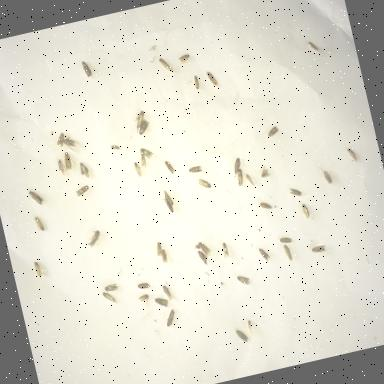pbw: (82, 227, 104, 251), (130, 108, 150, 134), (56, 148, 76, 173), (193, 238, 214, 261), (26, 186, 46, 210), (231, 165, 248, 191), (101, 287, 121, 309), (132, 152, 152, 174), (204, 68, 222, 92), (52, 156, 70, 180), (158, 54, 176, 78), (156, 244, 172, 270), (136, 144, 156, 164), (161, 158, 179, 180), (194, 246, 212, 268), (76, 158, 92, 182), (79, 57, 95, 81), (176, 50, 195, 70), (162, 306, 179, 328), (280, 241, 297, 263), (160, 186, 176, 209), (150, 237, 166, 260), (229, 155, 245, 178), (218, 236, 232, 262), (153, 292, 171, 312), (62, 134, 80, 154), (276, 230, 296, 248), (257, 244, 273, 266), (160, 280, 174, 304), (135, 292, 153, 310), (73, 182, 92, 199), (234, 326, 250, 346), (53, 130, 69, 150), (32, 258, 45, 282), (32, 212, 46, 234), (321, 166, 335, 188), (300, 200, 314, 222), (103, 279, 122, 295), (308, 241, 328, 256), (243, 169, 257, 190), (186, 162, 204, 178), (264, 123, 282, 139), (196, 174, 212, 192), (256, 162, 272, 180), (130, 160, 144, 180), (346, 145, 360, 165), (286, 184, 303, 200), (306, 38, 322, 55), (245, 316, 257, 338), (236, 272, 252, 288), (258, 198, 274, 214), (191, 72, 203, 92), (108, 140, 123, 154), (136, 280, 152, 292)
